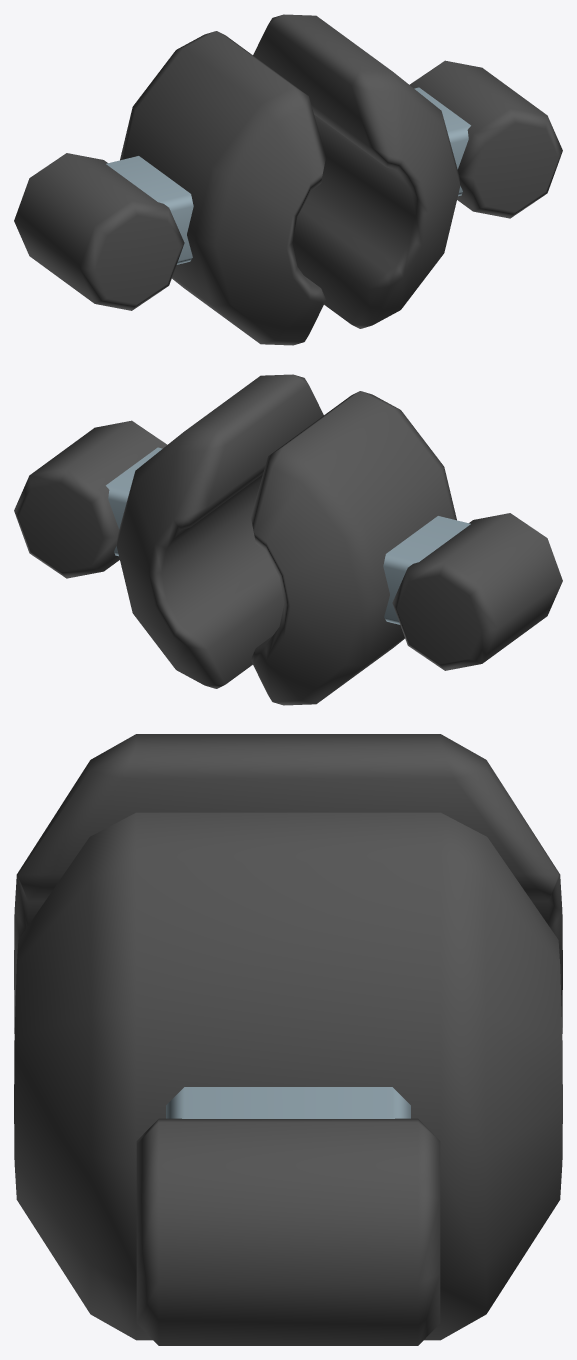
Rendered from droneholder_001.fbx.
The picture shows the model from 3 angles, top to bottom: view 1: azimuth 30°, elevation 25°; view 2: azimuth 150°, elevation 25°; view 3: azimuth 270°, elevation 25°; orthographic projection. The views are drawn at different scales.
Visible parts, largest first — view 1: droneholder_001; view 2: droneholder_001; view 3: droneholder_001.
Part boxes in pixels (x1=…): droneholder_001: x1=14, y1=14, x2=562, y2=345; droneholder_001: x1=14, y1=374, x2=562, y2=705; droneholder_001: x1=14, y1=734, x2=562, y2=1345.
Bounding box in the file's own units: 176 × 87.11 × 89.98.
